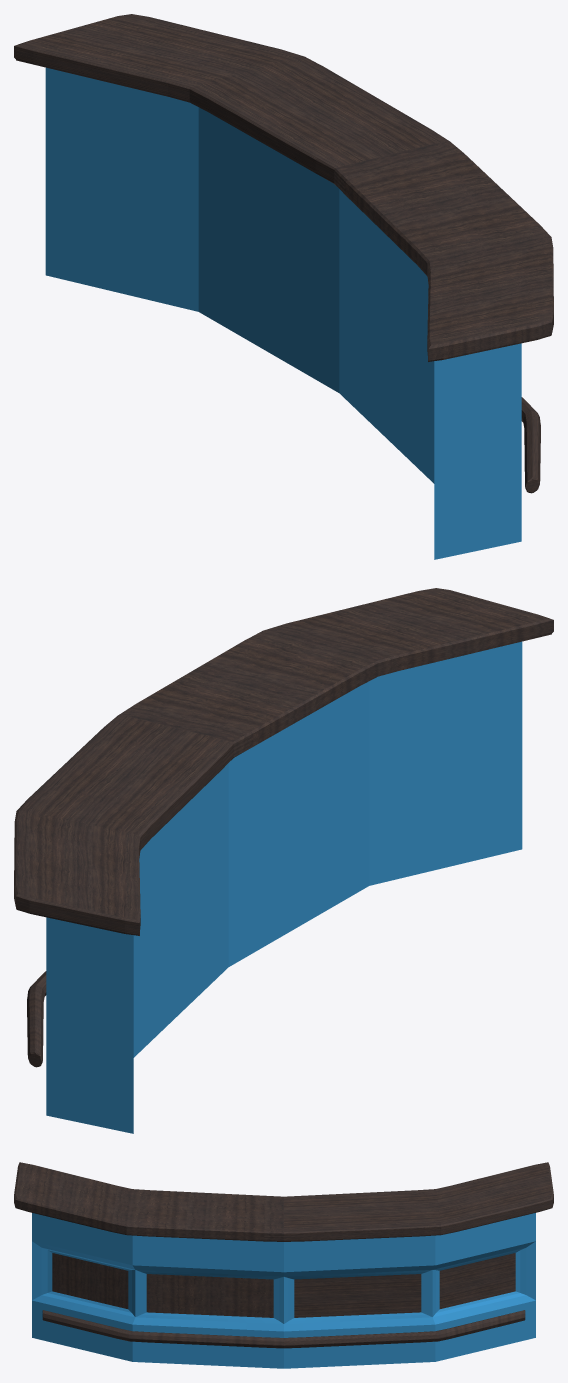
File: bar counter NOCHMAL NEU UND RICHTIG ALONE fertig (1).fbx
3 views of the same model, one above another, from view 1: azimuth 30°, elevation 25°; view 2: azimuth 150°, elevation 25°; view 3: azimuth 270°, elevation 25° (orthographic). The views are drawn at different scales.
Parts seen in each view (by area): view 1: bar_counter; view 2: bar_counter; view 3: bar_counter.
Boxes of the visible parts, bbox=[...] form: bar_counter: bbox=[14, 14, 553, 559]; bar_counter: bbox=[14, 588, 553, 1133]; bar_counter: bbox=[14, 1162, 553, 1368].
Bounding box in the file's own units: 1.36 × 1.28 × 4.33.
